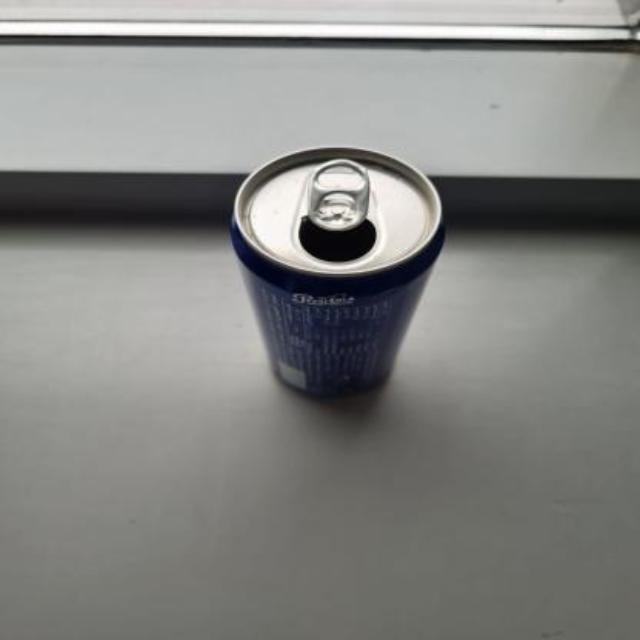metal: (229, 146, 442, 392)
